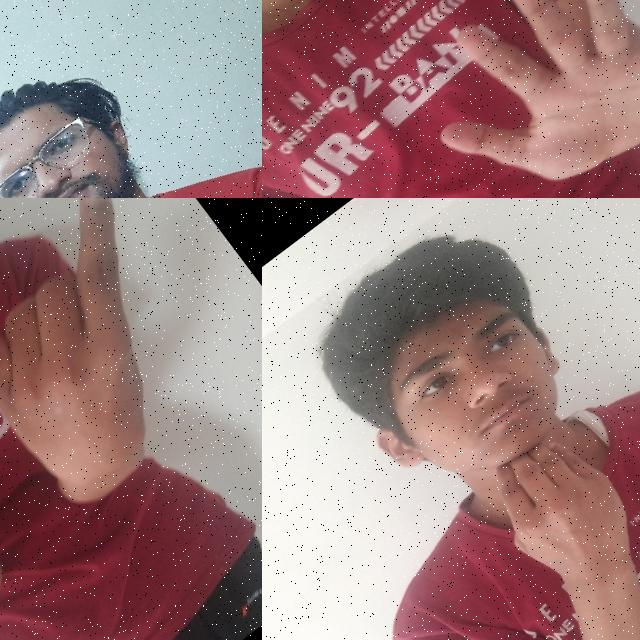Chin Flick: (270, 198, 640, 640), (0, 49, 226, 198)
Corna: (0, 198, 258, 522)
Moutza: (379, 0, 640, 198)
